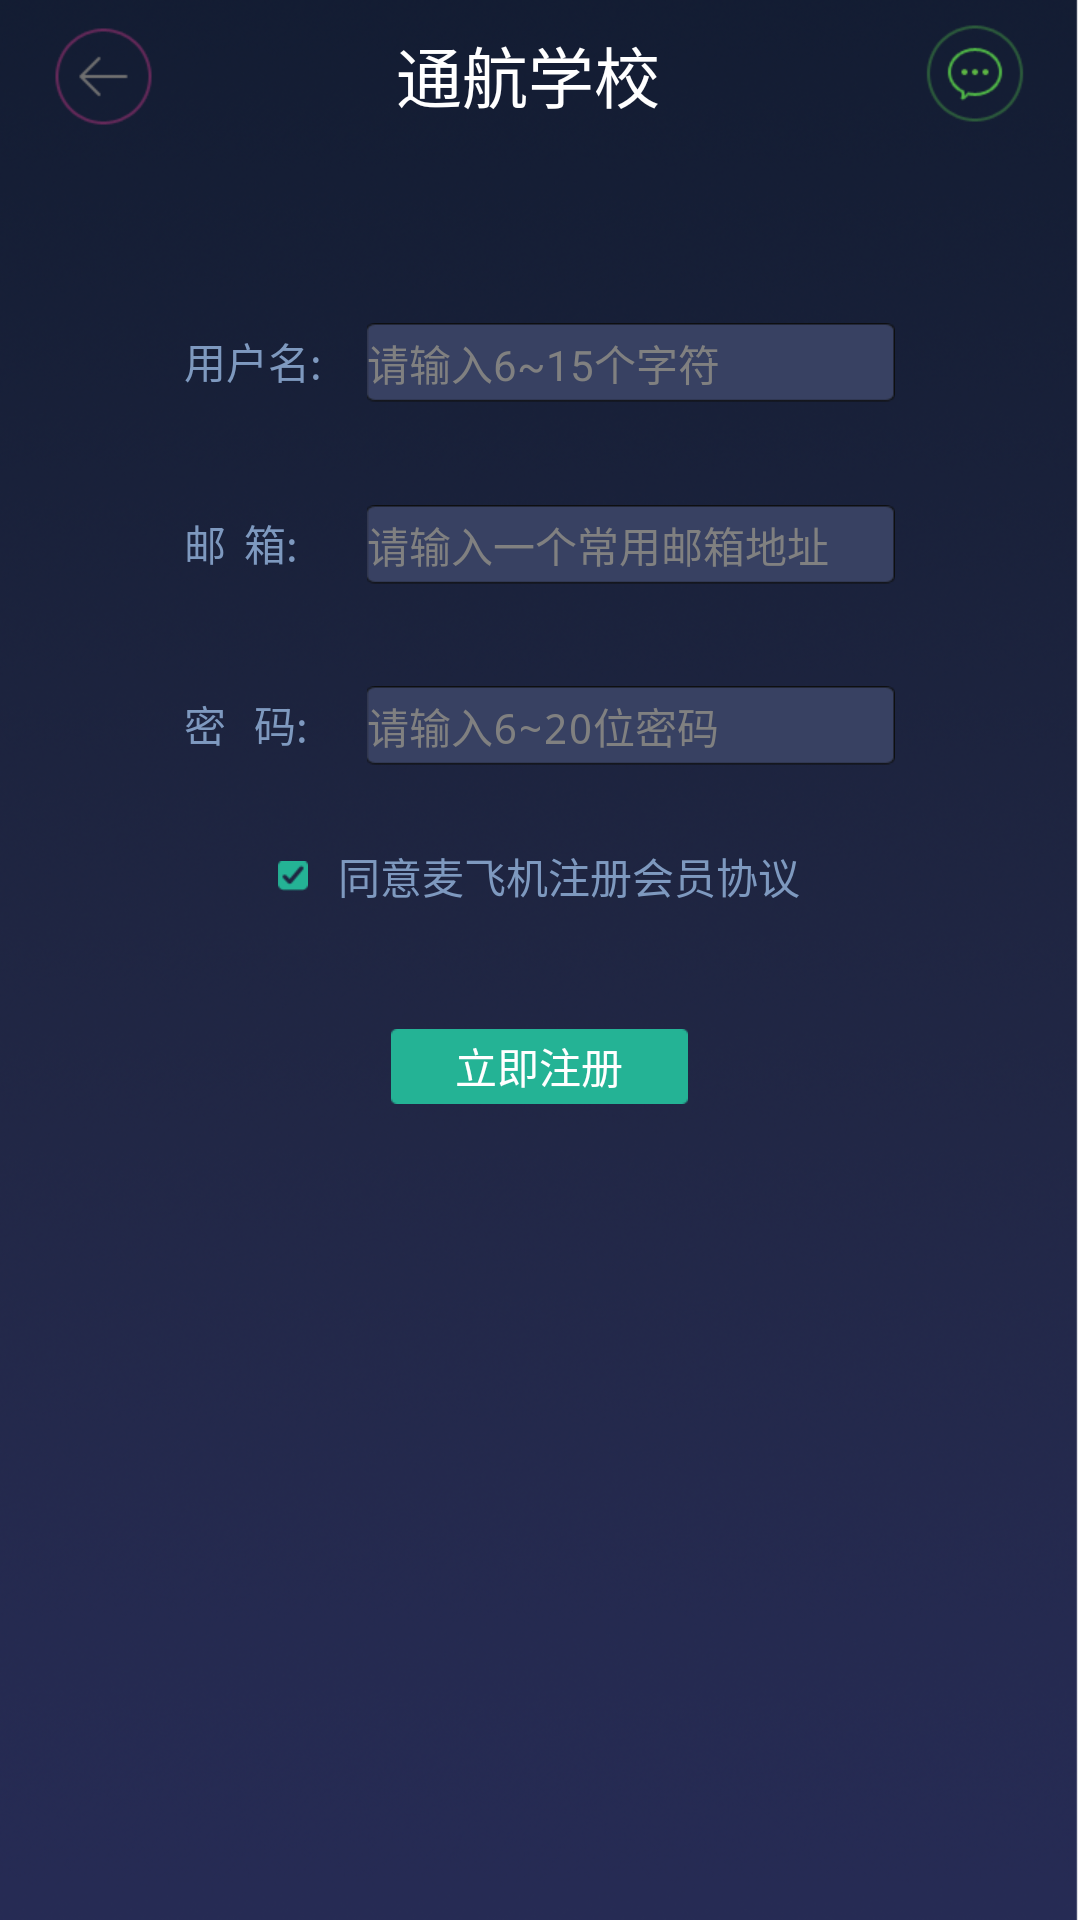

Point at icon controls on the screen. Image size 1080 × 1920, points as [x,y].
agree check: [293,876]
back: [103,76]
